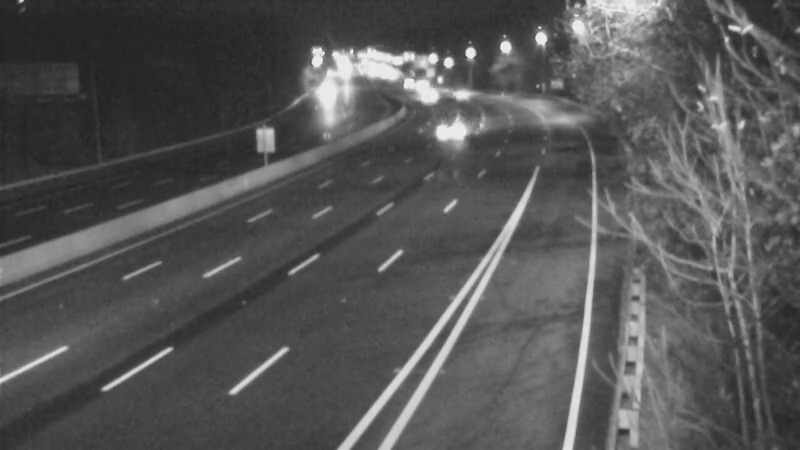vehicle: (437, 61, 487, 111), (396, 62, 446, 112), (400, 70, 450, 120), (425, 99, 475, 149), (295, 70, 345, 120)
